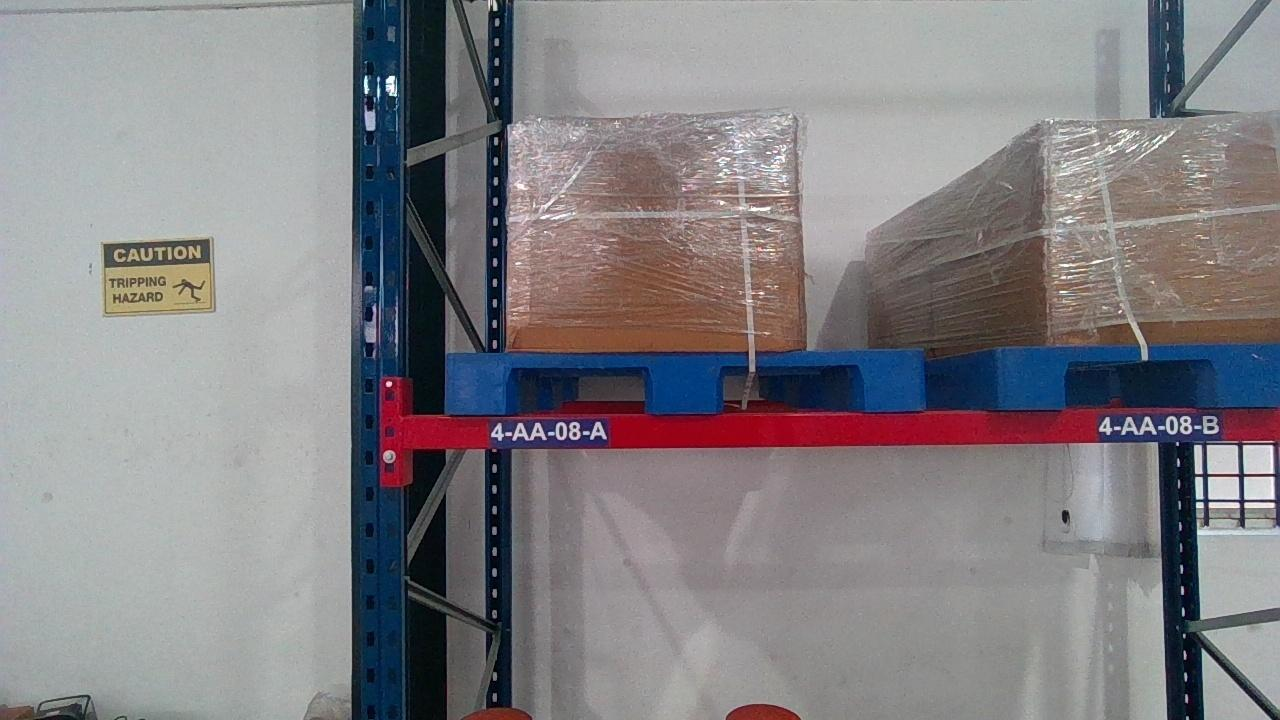h_rack: (410, 408, 1279, 446)
small_pallet: (444, 349, 927, 411), (999, 343, 1278, 403)
